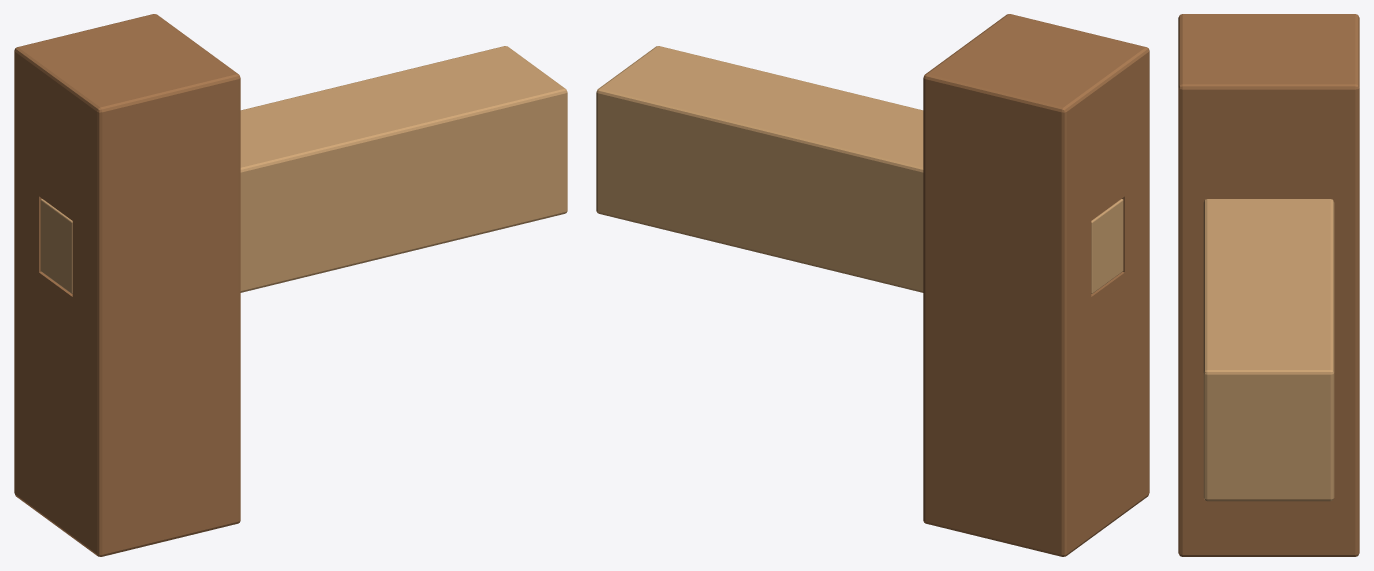
The model's file is crafted-joint.glb.
The picture shows the model from 3 angles, left to right: view 1: azimuth 30°, elevation 25°; view 2: azimuth 150°, elevation 25°; view 3: azimuth 270°, elevation 25°; orthographic projection. The views are drawn at different scales.
Parts seen in each view (by area): view 1: mortise post, beam shoulder; view 2: mortise post, beam shoulder; view 3: mortise post, beam shoulder.
Boxes of the visible parts, x1,y1,x2,y2 form: mortise post: (14,14,240,556); beam shoulder: (40,46,567,293); mortise post: (923,14,1149,556); beam shoulder: (596,46,1123,293); mortise post: (1178,14,1359,556); beam shoulder: (1203,199,1334,501).
Size of the model in its own units: 4.04 by 3.6 by 1.25.
